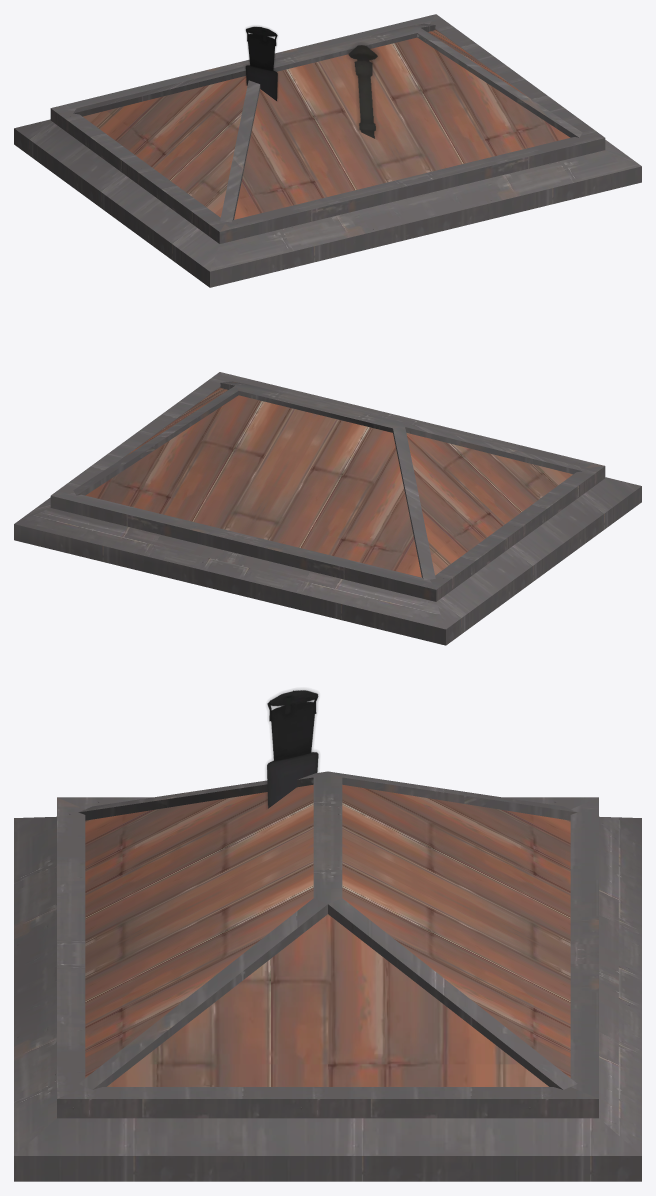
3 renders of one model, top to bottom at view 1: azimuth 30°, elevation 25°; view 2: azimuth 150°, elevation 25°; view 3: azimuth 270°, elevation 25°, orthographic. The views are drawn at different scales.
Visible parts, largest first — view 1: body0_model0_lod0_mesh1, body0_model0_lod0_mesh0, body0_model0_lod0_mesh4, body0_model0_lod0_mesh5; view 2: body0_model0_lod0_mesh1, body0_model0_lod0_mesh0; view 3: body0_model0_lod0_mesh0, body0_model0_lod0_mesh1, body0_model0_lod0_mesh4.
Boxes of the visible parts, bbox=[...] form: body0_model0_lod0_mesh1: bbox=[14, 14, 641, 287]; body0_model0_lod0_mesh0: bbox=[83, 29, 570, 219]; body0_model0_lod0_mesh4: bbox=[245, 26, 277, 100]; body0_model0_lod0_mesh5: bbox=[348, 44, 377, 138]; body0_model0_lod0_mesh1: bbox=[14, 372, 641, 645]; body0_model0_lod0_mesh0: bbox=[85, 387, 572, 577]; body0_model0_lod0_mesh0: bbox=[85, 784, 570, 1086]; body0_model0_lod0_mesh1: bbox=[14, 771, 641, 1181]; body0_model0_lod0_mesh4: bbox=[266, 689, 318, 808].
Size of the model in its own units: 448 by 180 by 352.
Materials: 6 (6 with a texture image).
